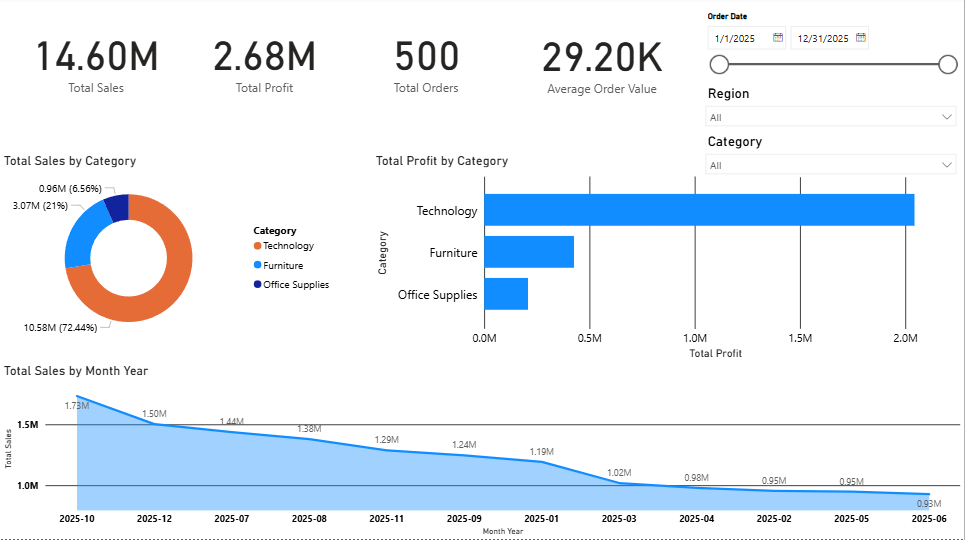

This screenshot's page, from the dashboard's own definition file:
{"tool":"powerbi","page":{"name":"Page 1","canvas":[1280,720],"ordinal":0},"visuals":[{"type":"card","fields":{"Values":["sales_dashboard_sample_data.Total Sales"]},"box":[0,0,254.9,163.3],"z":0},{"type":"card","fields":{"Values":["sales_dashboard_sample_data.Total Profit"]},"box":[243,0,216.4,163.3],"z":1000},{"type":"card","fields":{"Values":["sales_dashboard_sample_data.Total Orders"]},"box":[459.4,0,212.4,163.3],"z":2000},{"type":"card","fields":{"Values":["sales_dashboard_sample_data.Average Order Value"]},"box":[671.9,1.3,254.9,162],"z":3000},{"type":"lineChart","fields":{"Category":["sales_dashboard_sample_data.Month Year"],"Y":["sales_dashboard_sample_data.Total Sales"]},"box":[0,486,1280,233.7],"z":3001},{"type":"donutChart","fields":{"Category":["sales_dashboard_sample_data.Category"],"Y":["sales_dashboard_sample_data.Total Sales"]},"box":[0,207.1,451.5,260.2],"z":3002},{"type":"barChart","fields":{"Category":["sales_dashboard_sample_data.Category"],"Y":["sales_dashboard_sample_data.Total Profit"]},"box":[493.9,207.1,786.1,278.8],"z":3003},{"type":"slicer","fields":{"Values":["sales_dashboard_sample_data.Region"]},"box":[926.8,111.5,353.2,67.7],"z":3004},{"type":"slicer","fields":{"Values":["sales_dashboard_sample_data.Category"]},"box":[926.8,175.3,353.2,63.7],"z":3005},{"type":"slicer","fields":{"Values":["sales_dashboard_sample_data.Order Date"]},"box":[926.8,14.6,353.2,96.9],"z":3006}]}

Visuals, with their boxes in screenshot pixels (x1, y1, x2, y2), scaled from the page's 1280x720 canvas onto the 965x540 screenshot:
card - sales_dashboard_sample_data.Total Sales: crop(0, 0, 192, 122)
card - sales_dashboard_sample_data.Total Profit: crop(183, 0, 346, 122)
card - sales_dashboard_sample_data.Total Orders: crop(346, 0, 506, 122)
card - sales_dashboard_sample_data.Average Order Value: crop(507, 1, 699, 122)
lineChart - sales_dashboard_sample_data.Month Year x sales_dashboard_sample_data.Total Sales: crop(0, 364, 964, 539)
donutChart - sales_dashboard_sample_data.Category x sales_dashboard_sample_data.Total Sales: crop(0, 155, 340, 350)
barChart - sales_dashboard_sample_data.Category x sales_dashboard_sample_data.Total Profit: crop(372, 155, 964, 364)
slicer - sales_dashboard_sample_data.Region: crop(699, 84, 964, 134)
slicer - sales_dashboard_sample_data.Category: crop(699, 131, 964, 179)
slicer - sales_dashboard_sample_data.Order Date: crop(699, 11, 964, 84)
